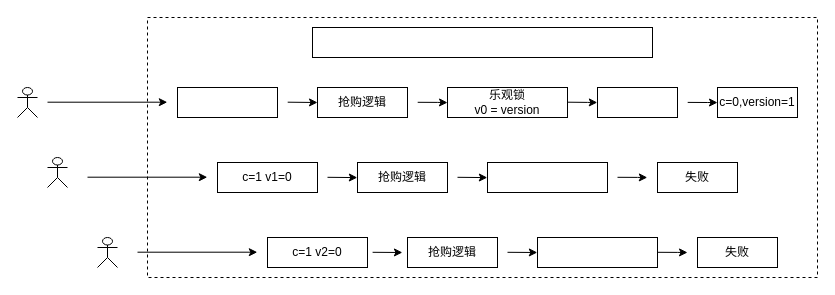
Image size: 835x295. Some labels were removed from this diagram. Here are the shapes that lost their labels. From the top down, the centre of each, then its label:
At (x=482, y=42): "在这个事件间隙里，stock.count=1,所有库存判断都可以通过，version=0为版本号".
At (x=227, y=102): "c=1 v0=0".
At (x=637, y=102): "成功".
At (x=547, y=177): "乐观锁 v1 != version".
At (x=597, y=252): "乐观锁 v2 != version".
